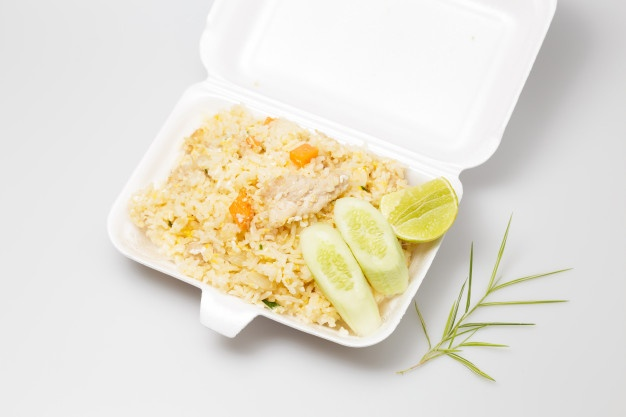Foam Box: (101, 1, 562, 352)
